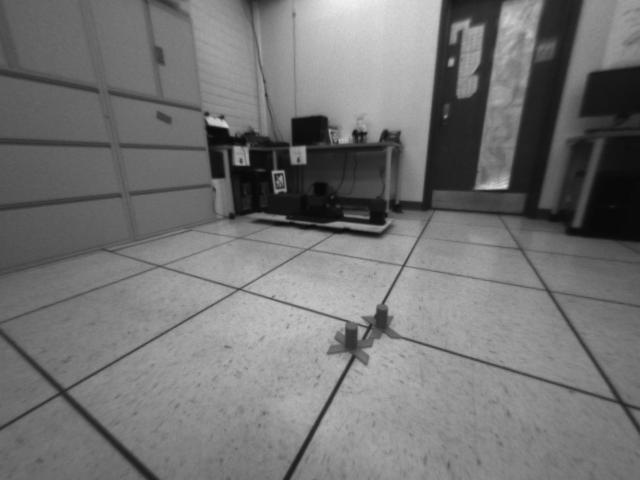X: (323, 320, 374, 372), (359, 303, 403, 343)
